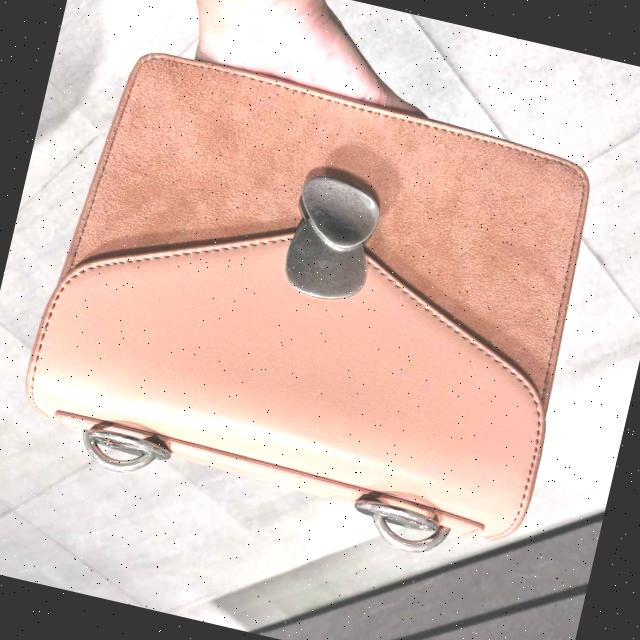handbag: (15, 44, 640, 602)
